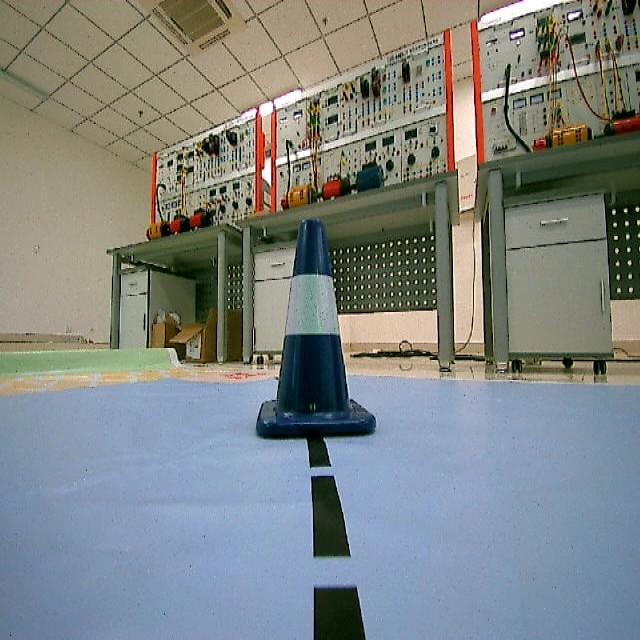obstacle: (256, 208, 381, 450)
